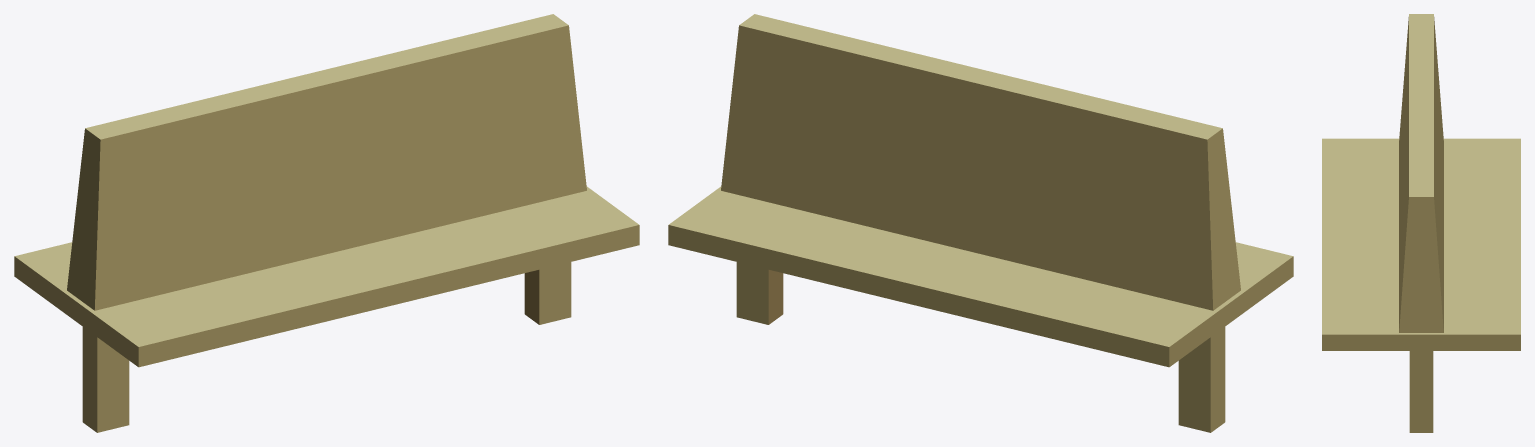
The model's file is bench_003.fbx.
The picture shows the model from 3 angles, left to right: view 1: azimuth 30°, elevation 25°; view 2: azimuth 150°, elevation 25°; view 3: azimuth 270°, elevation 25°; orthographic projection. The views are drawn at different scales.
Visible parts, largest first — view 1: bench_003; view 2: bench_003; view 3: bench_003.
Boxes of the visible parts, x1=… form: bench_003: x1=14, y1=14, x2=639, y2=432; bench_003: x1=668, y1=14, x2=1293, y2=432; bench_003: x1=1322, y1=14, x2=1520, y2=432.
Size of the model in its own units: 168 by 93.73 by 72.
